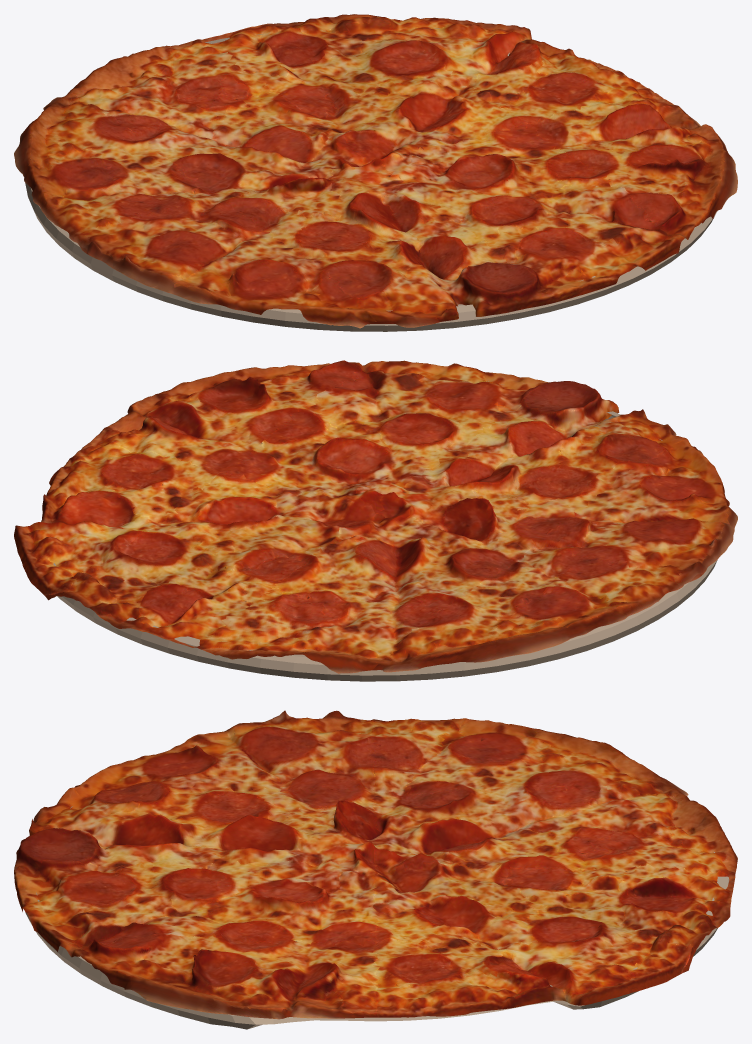
File: pizza.fbx
The picture shows the model from 3 angles, top to bottom: view 1: azimuth 30°, elevation 25°; view 2: azimuth 150°, elevation 25°; view 3: azimuth 270°, elevation 25°; orthographic projection.
Visible parts, largest first — view 1: mainMeshNode; view 2: mainMeshNode; view 3: mainMeshNode.
Boxes of the visible parts, bbox=[...] form: mainMeshNode: bbox=[14, 14, 737, 331]; mainMeshNode: bbox=[14, 360, 737, 681]; mainMeshNode: bbox=[14, 710, 737, 1029].
Bounding box in the file's own units: 52.93 × 3.88 × 54.52.
2 materials, 1 textured.
